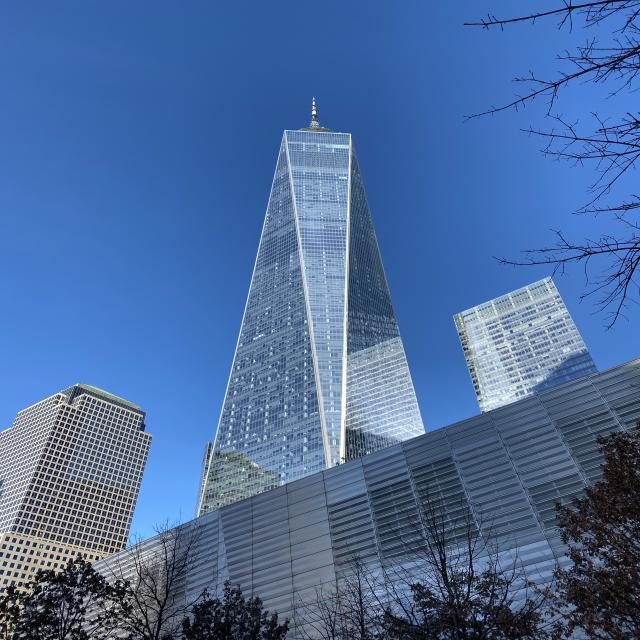WTC: (225, 96, 420, 436)
